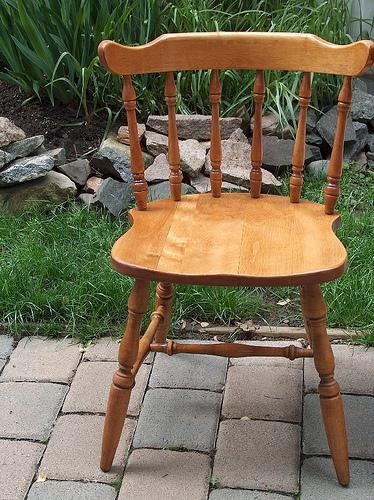obstacle: (98, 32, 372, 486)
